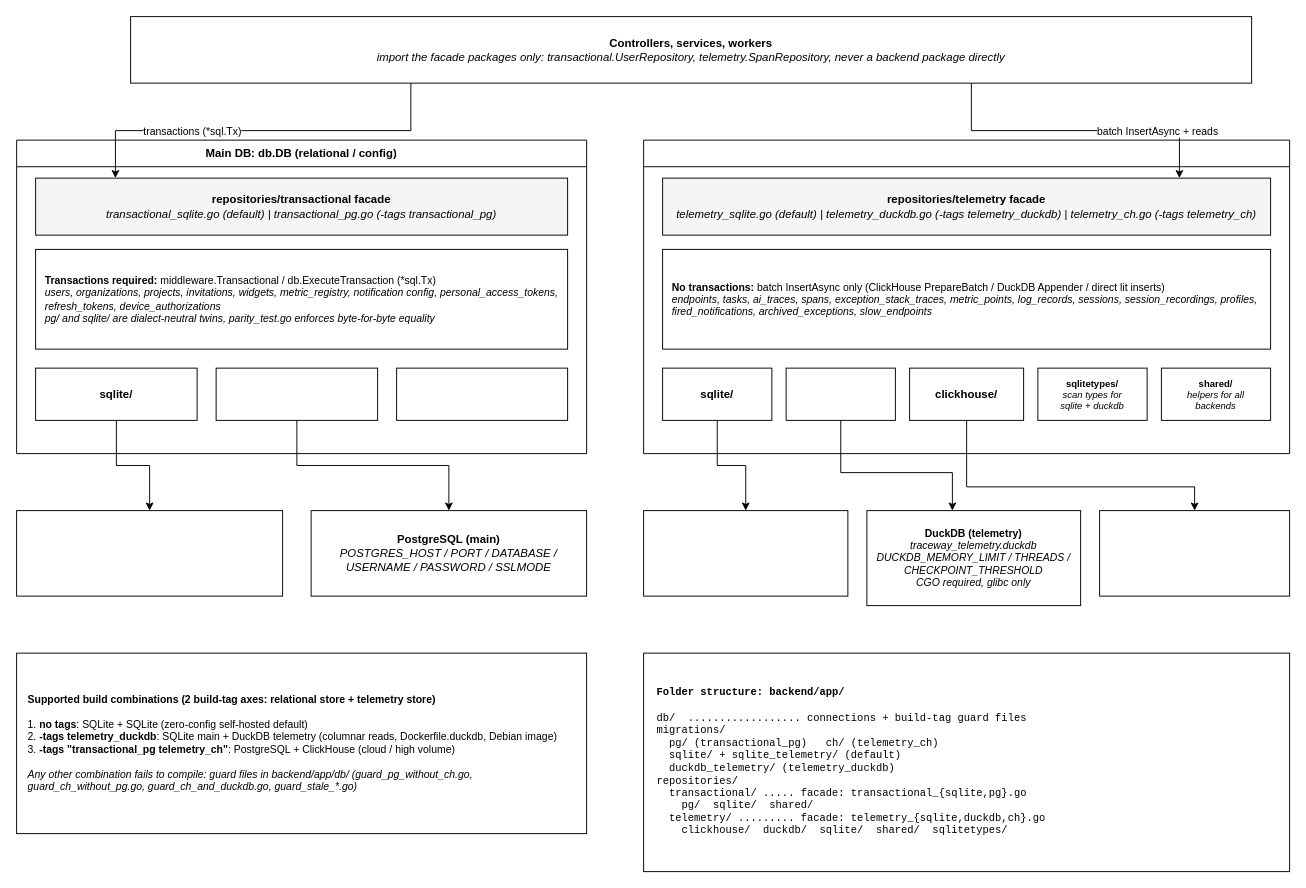
Some shapes in this 1306 by 888 pixel diagram are drawn without their labels. Each missing label, with the box of its shape:
ClickHouse (telemetry) CLICKHOUSE_SERVER / DATABASE / USERNAME / PASSWORD / TLS: (1099, 510, 1290, 596)
duckdb/: (785, 367, 895, 420)
pg/: (215, 367, 378, 420)
shared/ token hashing, facade structs: (396, 367, 568, 420)
SQLite (main) SQLITE_PATH, default ./traceway.db no credentials, single file: (16, 510, 283, 596)
SQLite (telemetry) traceway_telemetry.db, derived from SQLITE_PATH: (643, 510, 848, 596)
Telemetry DB: db.TelemetryDB (append-only telemetry): (643, 139, 1290, 454)
